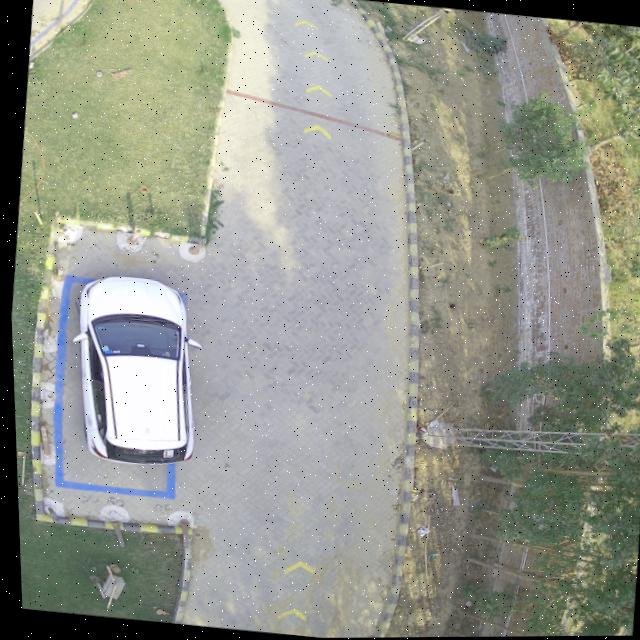car: (73, 277, 188, 466)
